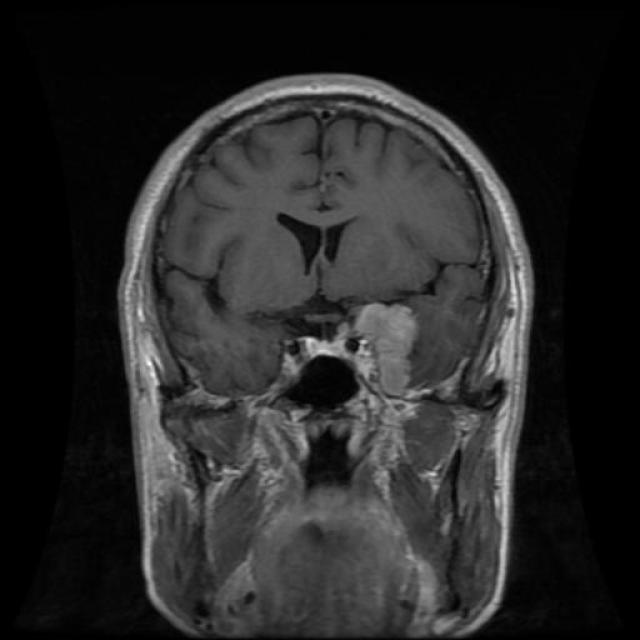meningioma: (294, 294, 441, 456)
